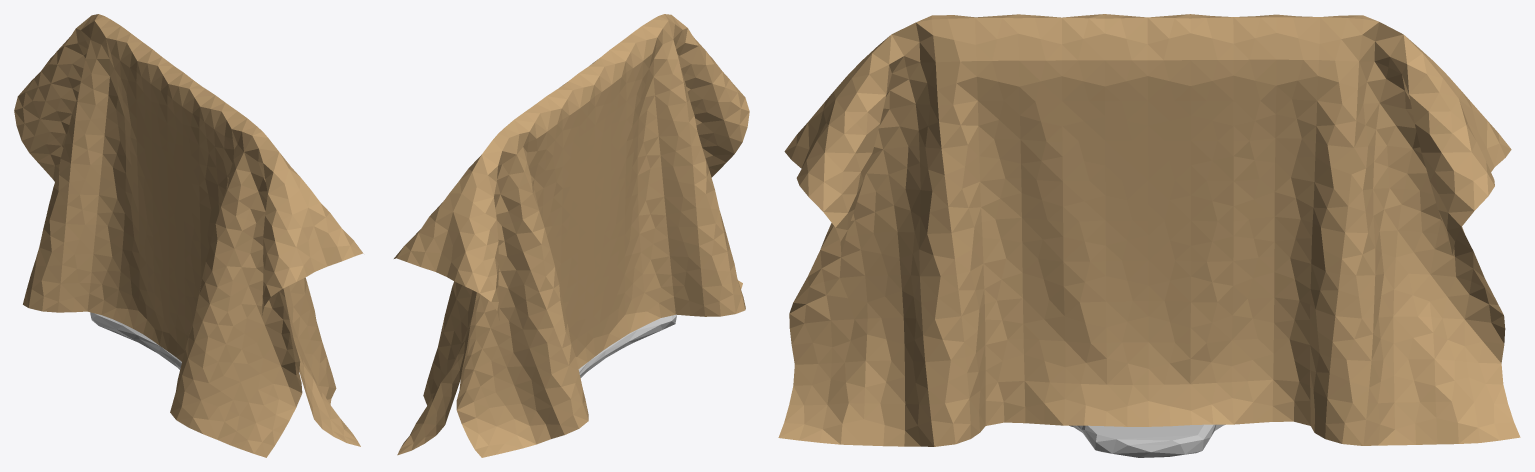
The model's file is level_1.glb.
3 renders of one model, left to right at view 1: azimuth 30°, elevation 25°; view 2: azimuth 150°, elevation 25°; view 3: azimuth 270°, elevation 25°, orthographic. The views are drawn at different scales.
Visible parts, largest first — view 1: world, object.obj; view 2: world, object.obj; view 3: world, object.obj.
Part boxes in pixels (box(x1,y1,x2,y2)): world: box(14, 14, 363, 457); object.obj: box(90, 312, 181, 369); world: box(394, 14, 749, 457); object.obj: box(578, 314, 676, 377); world: box(778, 14, 1520, 446); object.obj: box(1069, 424, 1225, 457).
Size of the model in its own units: 0.1743 by 0.2933 by 0.5022.
